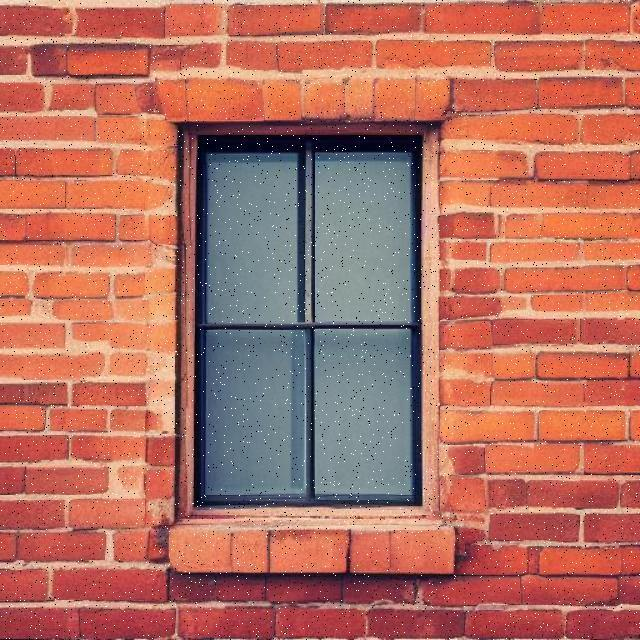window: (180, 124, 440, 520)
